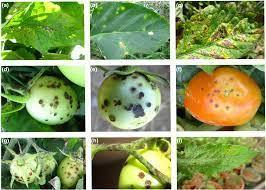tomato bacterial spot: (4, 68, 81, 132), (186, 68, 263, 128), (98, 68, 169, 131), (110, 139, 172, 189), (9, 152, 58, 188), (58, 152, 85, 190)
